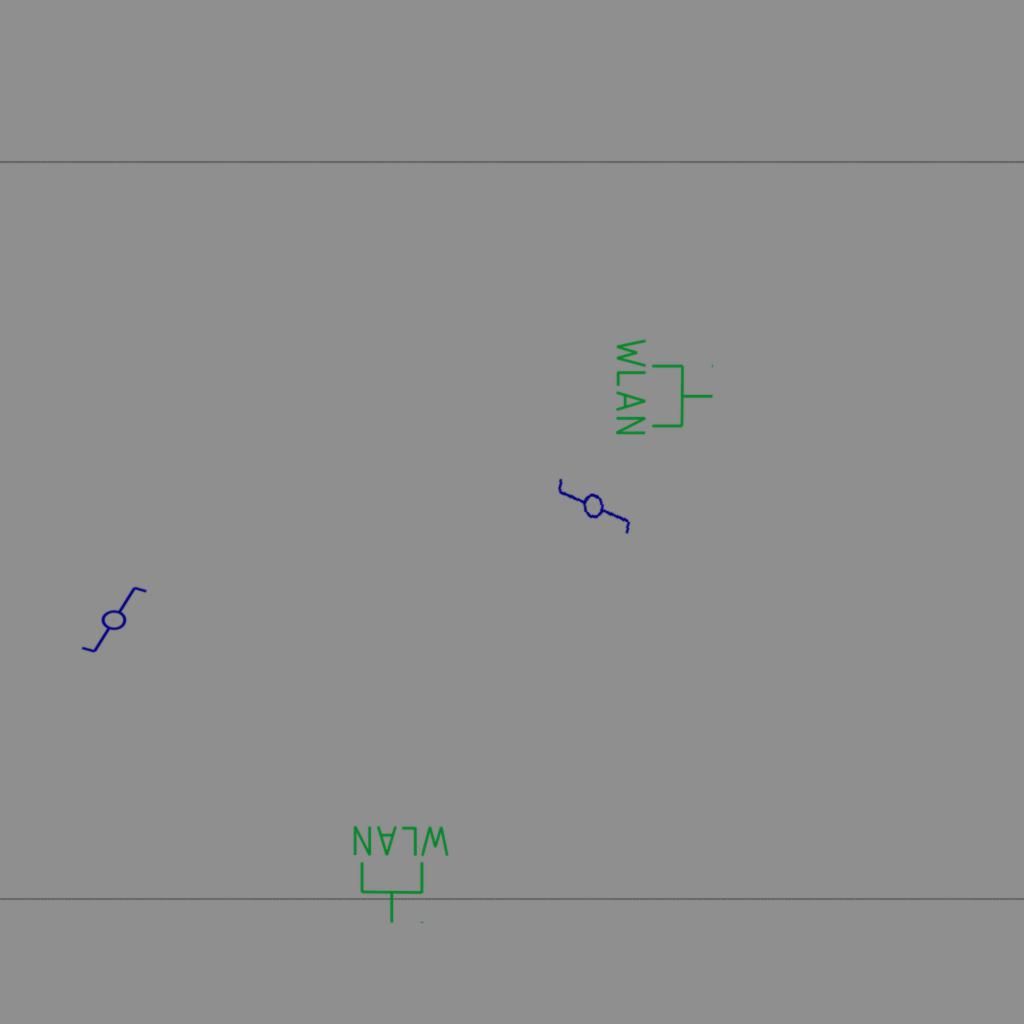WLAN: (349, 822, 454, 926), (612, 334, 716, 439)
Wechselschalter: (552, 457, 636, 547), (71, 583, 149, 655)
